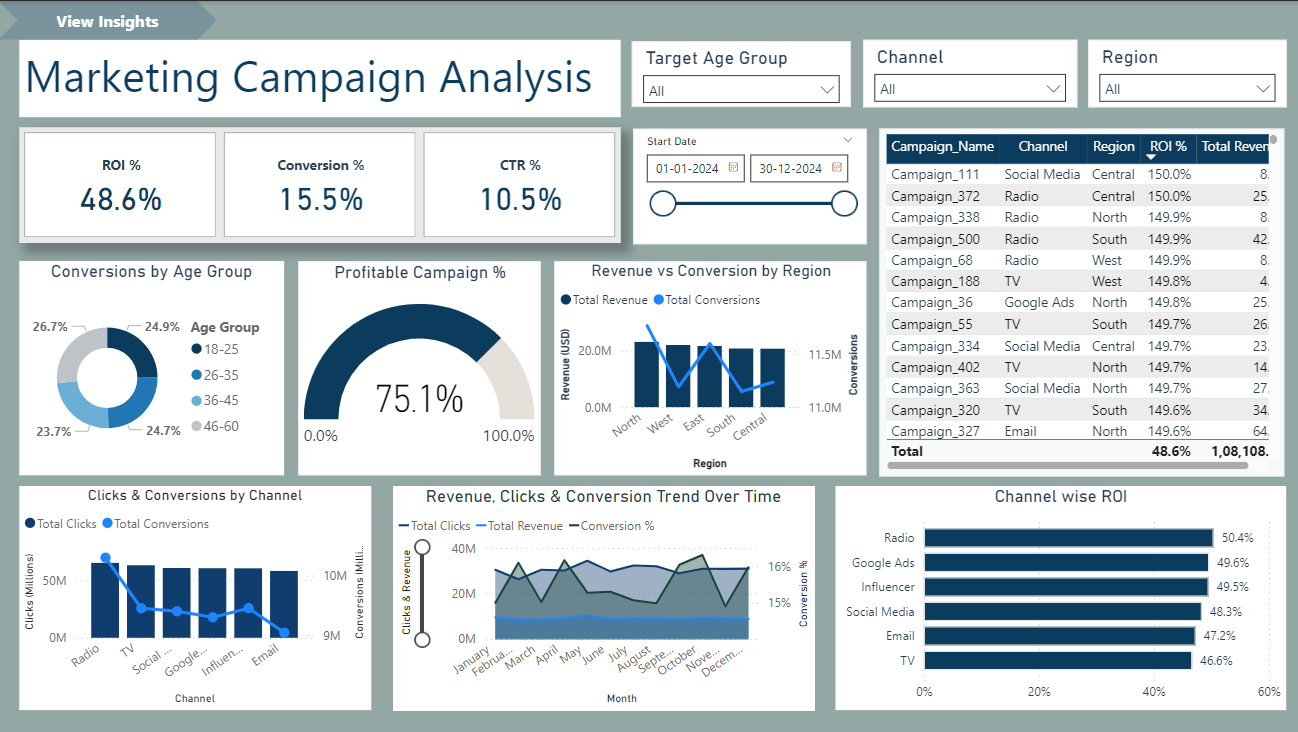

What the dashboard file says about the page in this screenshot:
{"tool":"powerbi","page":{"name":"Campaign Dashboard","canvas":[1280,720],"ordinal":0},"visuals":[{"type":"cardVisual","fields":{"Data":["marketing_campaign_cleaned.ROI %","marketing_campaign_cleaned.Conversion %","marketing_campaign_cleaned.CTR %"]},"box":[21.4,124.5,590.4,113.8],"z":0},{"type":"donutChart","title":"Conversions by Age Group","fields":{"Category":["marketing_campaign_cleaned.Target_Age_Group"],"Y":["marketing_campaign_cleaned.Total Conversions"]},"box":[21.3,254.7,260,210.7],"z":1000},{"type":"areaChart","title":"Revenue, Clicks & Conversion Trend Over Time","fields":{"Y":["marketing_campaign_cleaned.Total Clicks","marketing_campaign_cleaned.Total Revenue"],"Y2":["marketing_campaign_cleaned.Conversion %"],"Category":["marketing_campaign_cleaned.Start_Date.Variation.Date Hierarchy.Month"]},"box":[388,476,413.3,220],"z":2000},{"type":"clusteredBarChart","title":"Channel wise ROI","fields":{"Category":["marketing_campaign_cleaned.Channel"],"Y":["marketing_campaign_cleaned.ROI %"]},"box":[822.7,476,442.7,220],"z":3000},{"type":"lineClusteredColumnComboChart","title":"Revenue vs Conversion by Region","fields":{"Category":["marketing_campaign_cleaned.Region"],"Y":["marketing_campaign_cleaned.Total Revenue"],"Y2":["marketing_campaign_cleaned.Total Conversions"]},"box":[545.6,254.7,306.7,210.7],"z":4000},{"type":"gauge","title":"Profitable Campaign %","fields":{"Y":["marketing_campaign_cleaned.Profitable Campaign %"]},"box":[294.1,254.7,238.7,210.7],"z":5000},{"type":"slicer","fields":{"Values":["marketing_campaign_cleaned.Region"]},"box":[1070,37.5,195,66.2],"z":6000},{"type":"slicer","fields":{"Values":["marketing_campaign_cleaned.Channel"]},"box":[848.8,37.5,210,66.2],"z":7000},{"type":"slicer","fields":{"Values":["marketing_campaign_cleaned.Target_Age_Group"]},"box":[622.5,38.8,215,65],"z":8000},{"type":"slicer","fields":{"Values":["marketing_campaign_cleaned.Start_Date"]},"box":[623.7,125,229.3,113.3],"z":9000},{"type":"tableEx","fields":{"Values":["marketing_campaign_cleaned.Campaign_Name","marketing_campaign_cleaned.Channel","marketing_campaign_cleaned.Region","marketing_campaign_cleaned.ROI %","marketing_campaign_cleaned.Total Revenue"]},"box":[865,125,397.5,341.2],"z":10000},{"type":"textbox","box":[21.2,37.5,590,76.2],"z":11000},{"type":"lineClusteredColumnComboChart","title":"Clicks & Conversions by Channel","fields":{"Category":["marketing_campaign_cleaned.Channel"],"Y":["marketing_campaign_cleaned.Total Clicks"],"Y2":["marketing_campaign_cleaned.Total Conversions"]},"box":[21.3,476,345.3,220],"z":12000},{"type":"actionButton","box":[0,0,214.7,38],"z":13000}]}

Visuals, with their boxes in screenshot pixels (x1, y1, x2, y2), scaled from the page's 1280x720 canvas onto the 1298x732 screenshot:
cardVisual - marketing_campaign_cleaned.ROI % x marketing_campaign_cleaned.Conversion %: locate(22, 127, 620, 242)
"Conversions by Age Group" donutChart: locate(22, 259, 285, 473)
"Revenue, Clicks & Conversion Trend Over Time" areaChart: locate(393, 484, 813, 708)
"Channel wise ROI" clusteredBarChart: locate(834, 484, 1283, 708)
"Revenue vs Conversion by Region" lineClusteredColumnComboChart: locate(553, 259, 864, 473)
"Profitable Campaign %" gauge: locate(298, 259, 540, 473)
slicer - marketing_campaign_cleaned.Region: locate(1085, 38, 1283, 105)
slicer - marketing_campaign_cleaned.Channel: locate(861, 38, 1074, 105)
slicer - marketing_campaign_cleaned.Target_Age_Group: locate(631, 39, 849, 106)
slicer - marketing_campaign_cleaned.Start_Date: locate(632, 127, 865, 242)
tableEx - marketing_campaign_cleaned.Campaign_Name x marketing_campaign_cleaned.Channel: locate(877, 127, 1280, 474)
textbox: locate(21, 38, 620, 116)
"Clicks & Conversions by Channel" lineClusteredColumnComboChart: locate(22, 484, 372, 708)
actionButton: locate(0, 0, 218, 39)
